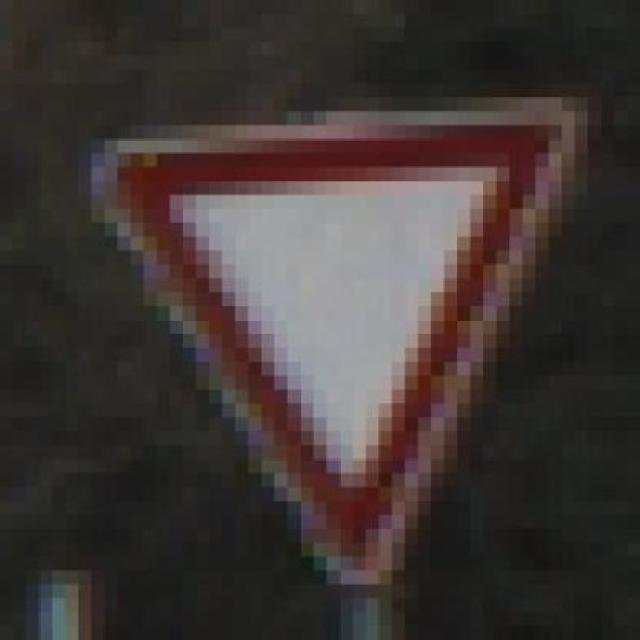Give Way: (65, 83, 601, 626)
